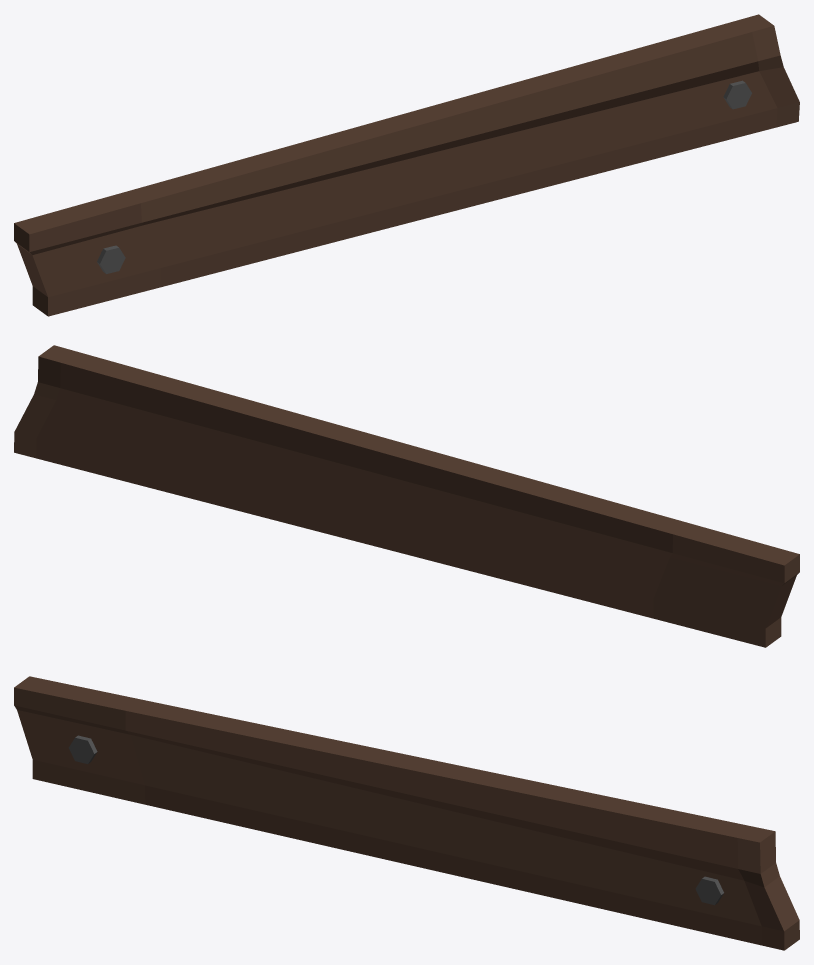
File: doorClosed.fbx
The picture shows the model from 3 angles, top to bottom: view 1: azimuth 30°, elevation 25°; view 2: azimuth 150°, elevation 25°; view 3: azimuth 330°, elevation 25°; orthographic projection.
Visible parts, largest first — view 1: Cube.004; view 2: Cube.004; view 3: Cube.004.
Part boxes in pixels (left/top/right/bottom): Cube.004: left=14, top=14, right=799, bottom=316; Cube.004: left=14, top=345, right=799, bottom=647; Cube.004: left=14, top=676, right=799, bottom=950.
Bounding box in the file's own units: 460 × 64.96 × 24.62.
